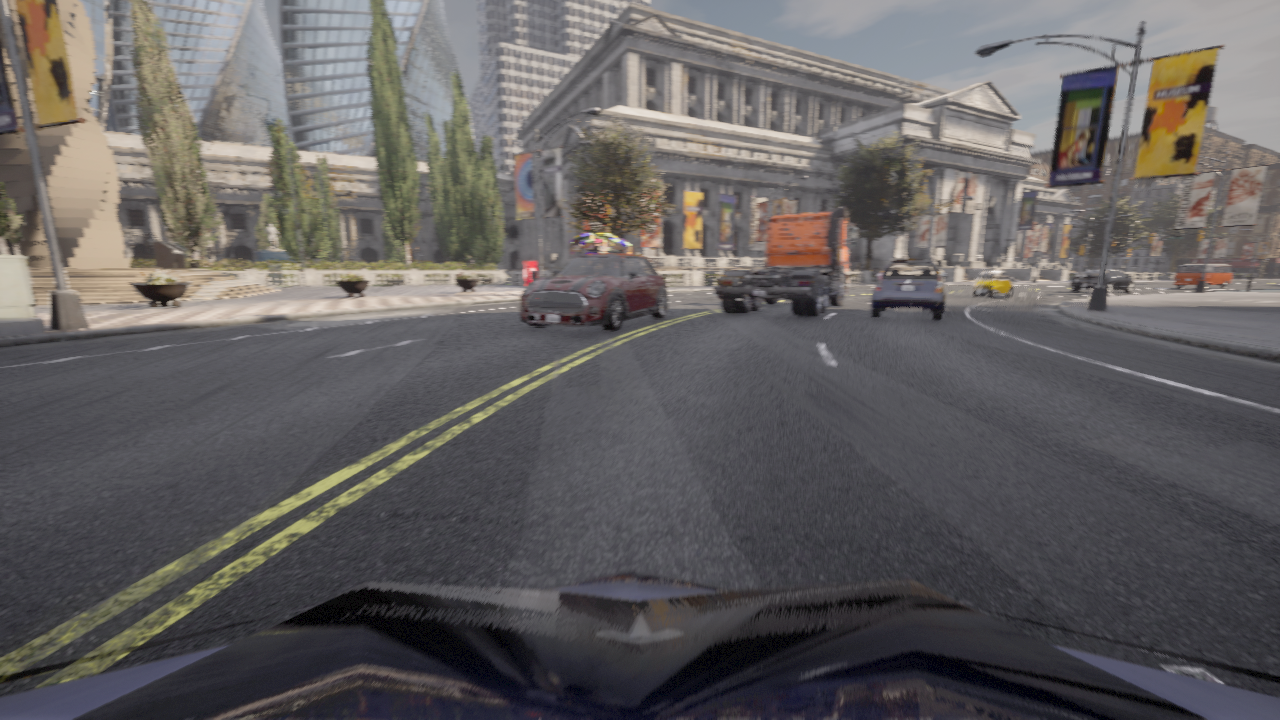cyclist: (0, 569, 1279, 719), (714, 207, 857, 316), (520, 254, 667, 330), (870, 259, 946, 320), (1173, 264, 1234, 288), (1071, 269, 1133, 292), (972, 270, 1013, 297)
